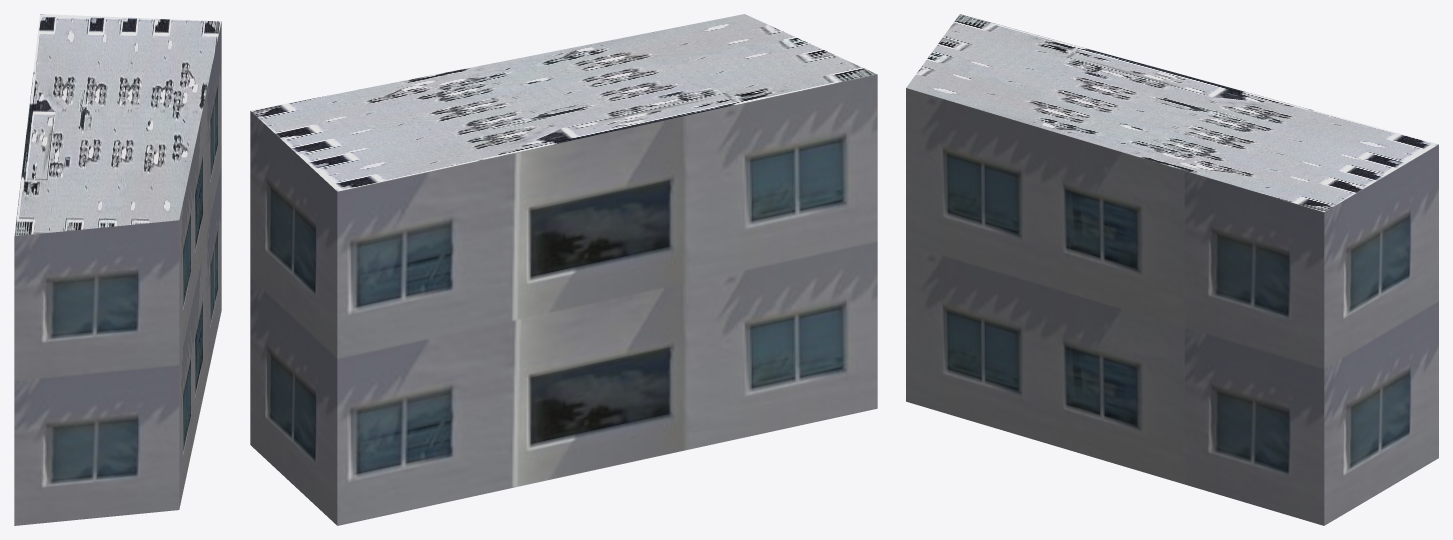
The model's file is ResTex__2098.fbx.
3 views of the same model, side by side, from view 1: azimuth 30°, elevation 25°; view 2: azimuth 150°, elevation 25°; view 3: azimuth 270°, elevation 25° (orthographic). The views are drawn at different scales.
Visible parts, largest first — view 1: CityEngineMaterial_10_m, CityEngineMaterial_8_m; view 2: CityEngineMaterial_10_m, CityEngineMaterial_8_m; view 3: CityEngineMaterial_10_m, CityEngineMaterial_8_m.
Part boxes in pixels (<box>): CityEngineMaterial_10_m: <box>14,22,221,525</box>; CityEngineMaterial_8_m: <box>14,14,221,235</box>; CityEngineMaterial_10_m: <box>250,74,877,525</box>; CityEngineMaterial_8_m: <box>250,14,876,191</box>; CityEngineMaterial_10_m: <box>906,88,1438,525</box>; CityEngineMaterial_8_m: <box>906,14,1438,211</box>.
Size of the model in its own units: 8.13 by 6 by 9.24.
2 materials, 2 textured.
